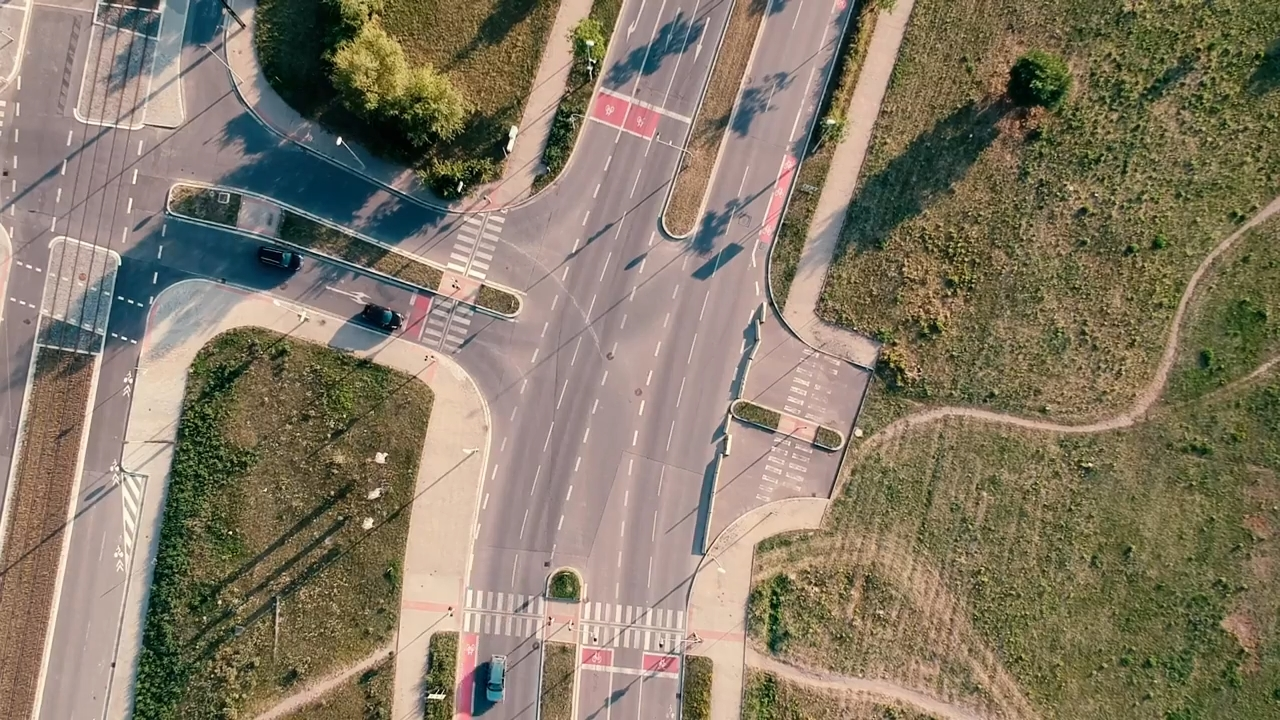car: (260, 244, 307, 272), (363, 300, 403, 332), (488, 652, 508, 702)
